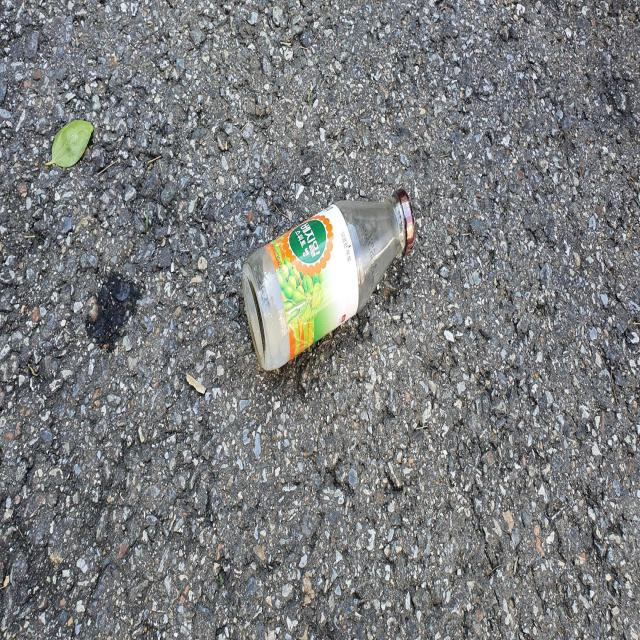glass: (242, 188, 415, 370)
